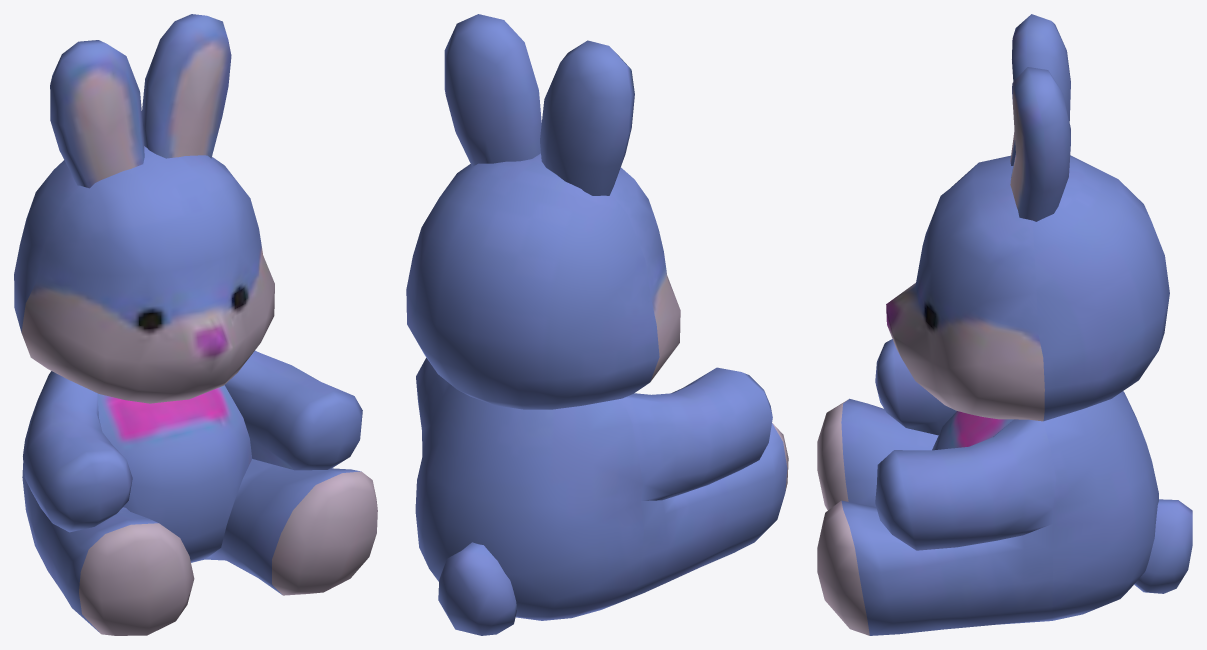
The picture shows the model from 3 angles, left to right: view 1: azimuth 30°, elevation 25°; view 2: azimuth 150°, elevation 25°; view 3: azimuth 270°, elevation 25°; orthographic projection. The views are drawn at different scales.
Size of the model in its own units: 5.97 by 9.53 by 5.97.
1 material, 1 textured.
